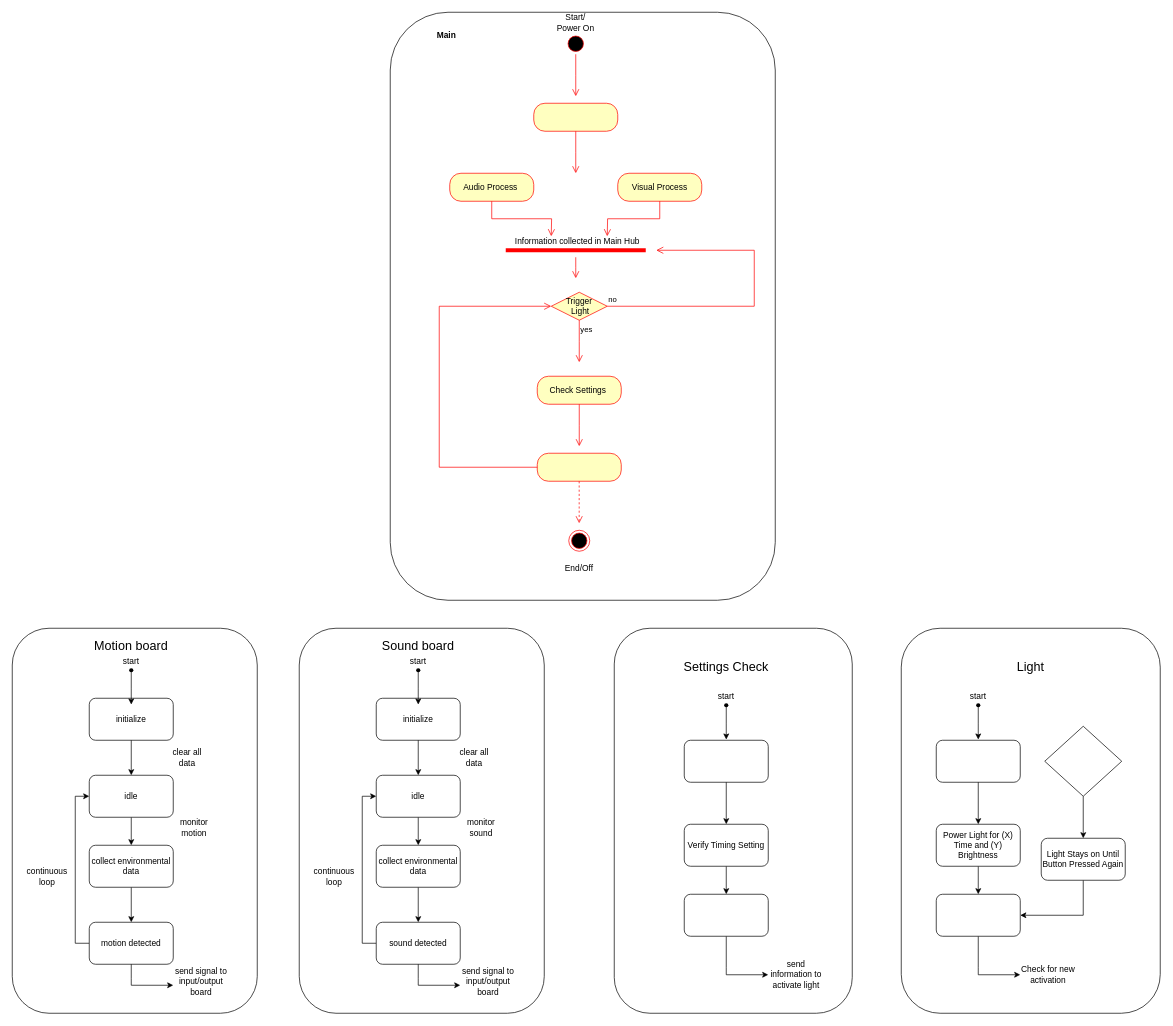
Some shapes in this 1173 by 1026 pixel diagram are drawn without their labels. Each missing label, with the centre of its shape:
"Activate/Deactivate Light" goes at pixel 579 467.
"Initialize System" goes at pixel 575 117.
"Override Light Button Pressed" goes at pixel 1083 761.
"Power Off light" goes at pixel 978 915.
"Receive Settings Activation" goes at pixel 978 761.
"Receive Trigger" goes at pixel 726 761.
"Verify Brightness Setting" goes at pixel 726 915.
